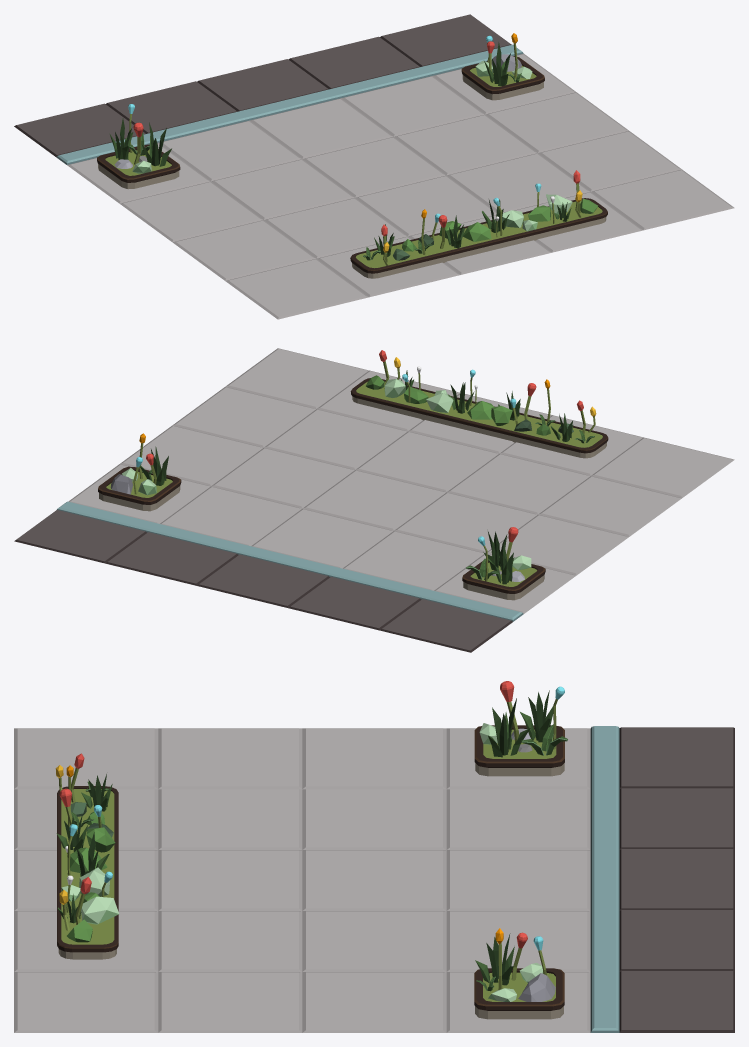
The model's file is OpenRoad_C.glb.
3 views of the same model, one above another, from view 1: azimuth 30°, elevation 25°; view 2: azimuth 150°, elevation 25°; view 3: azimuth 270°, elevation 25° (orthographic). The views are drawn at different scales.
Visible parts, largest first — view 1: OpenRoad_C, Cube.255, Cube.260, Cube.261, Grass_03.608, Grass_03.610; view 2: OpenRoad_C, Cube.255, Cube.261, Cube.260; view 3: OpenRoad_C, Cube.255, Cube.261, Cube.260, Grass_03.608, Grass_03.609, Grass_03.610, Tree_03.1467, Rock_08.074.
Part boxes in pixels (x1,y1,x2,y2): OpenRoad_C: (14,14,734,319); Cube.255: (350,198,607,278); Cube.260: (97,144,180,189); Cube.261: (461,56,544,100); Grass_03.608: (141,122,171,166); Grass_03.610: (484,42,510,85); OpenRoad_C: (14,348,734,652); Cube.255: (350,378,608,458); Cube.261: (98,466,181,511); Cube.260: (462,558,545,600); OpenRoad_C: (14,726,734,1032); Cube.255: (57,786,118,959); Cube.261: (474,968,564,1019); Cube.260: (474,725,564,776); Grass_03.608: (488,698,530,757); Grass_03.609: (520,690,553,742); Grass_03.610: (475,933,514,985); Tree_03.1467: (81,896,118,924); Rock_08.074: (518,973,555,1001).
Size of what is drawn, in the model's own units: 16 by 1.99 by 16.
Materials: 1 (1 with a texture image).
